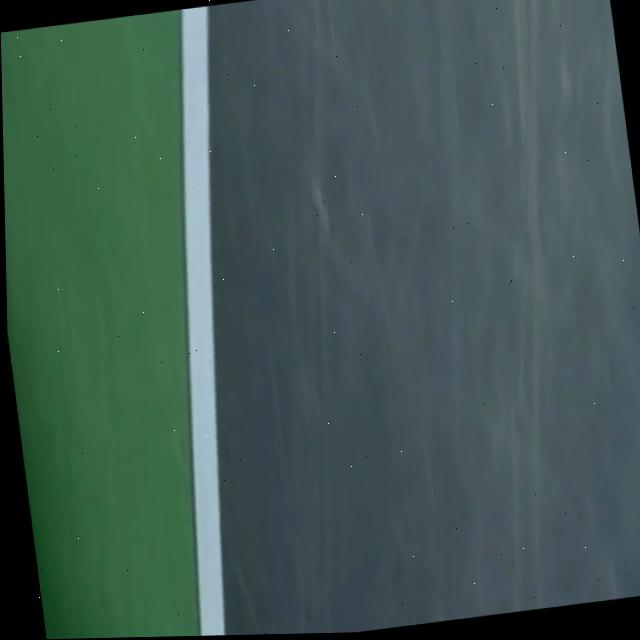right: (182, 5, 226, 636)
